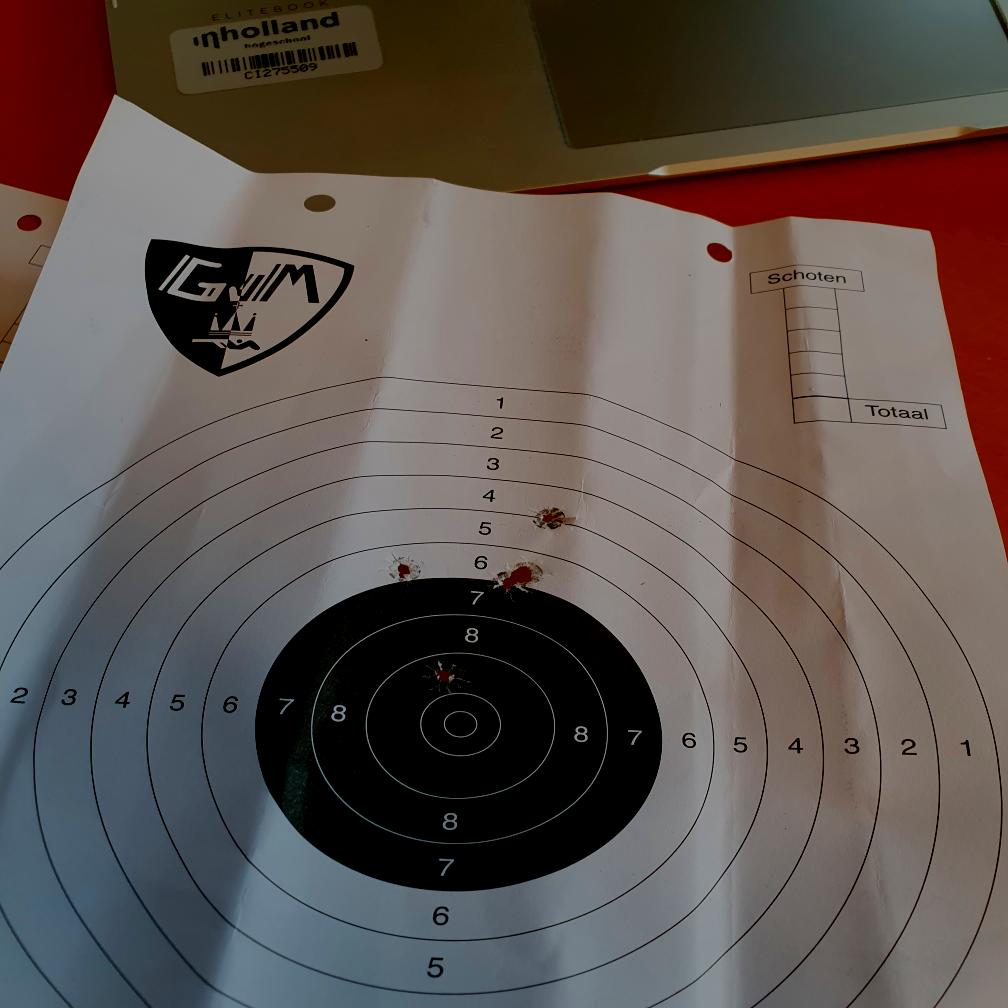5: (531, 504, 576, 529)
6: (508, 556, 546, 588)
7: (386, 552, 427, 582), (486, 571, 521, 601)
8: (422, 659, 472, 693)
Target: (0, 378, 1008, 1008)
black_contour: (252, 576, 664, 892)
